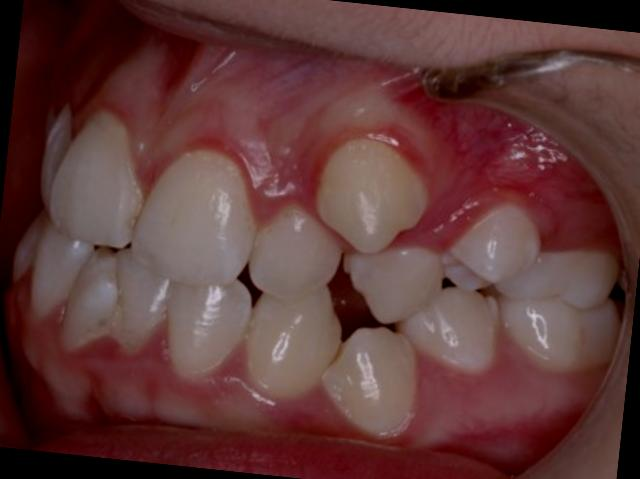canine class III 1/4: (225, 124, 451, 448)
molar class II 3/4: (486, 231, 635, 396)
